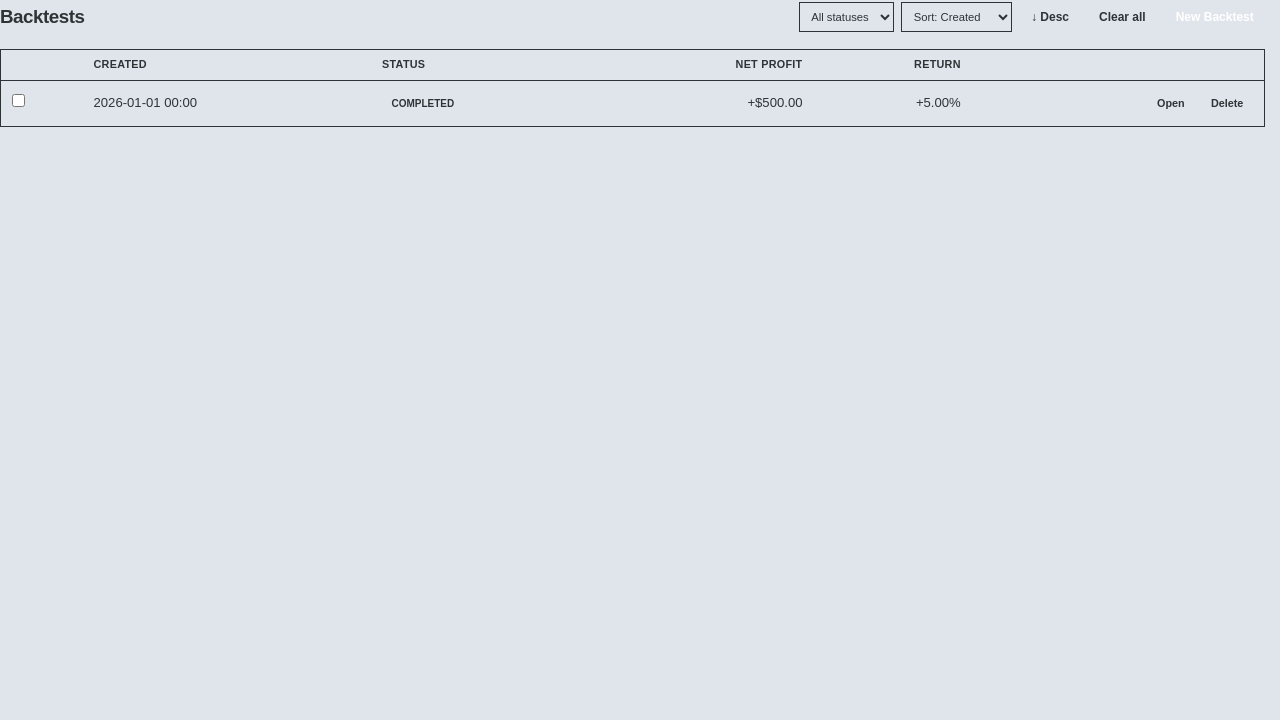
it: BacktestListPage › deletes a terminal run
Check: the table with test id "runs-table" is shown, box [1,50,1264,126]
Click the button with aria-label "Delete run-1": click(1227, 104) [1202,89,1253,119]
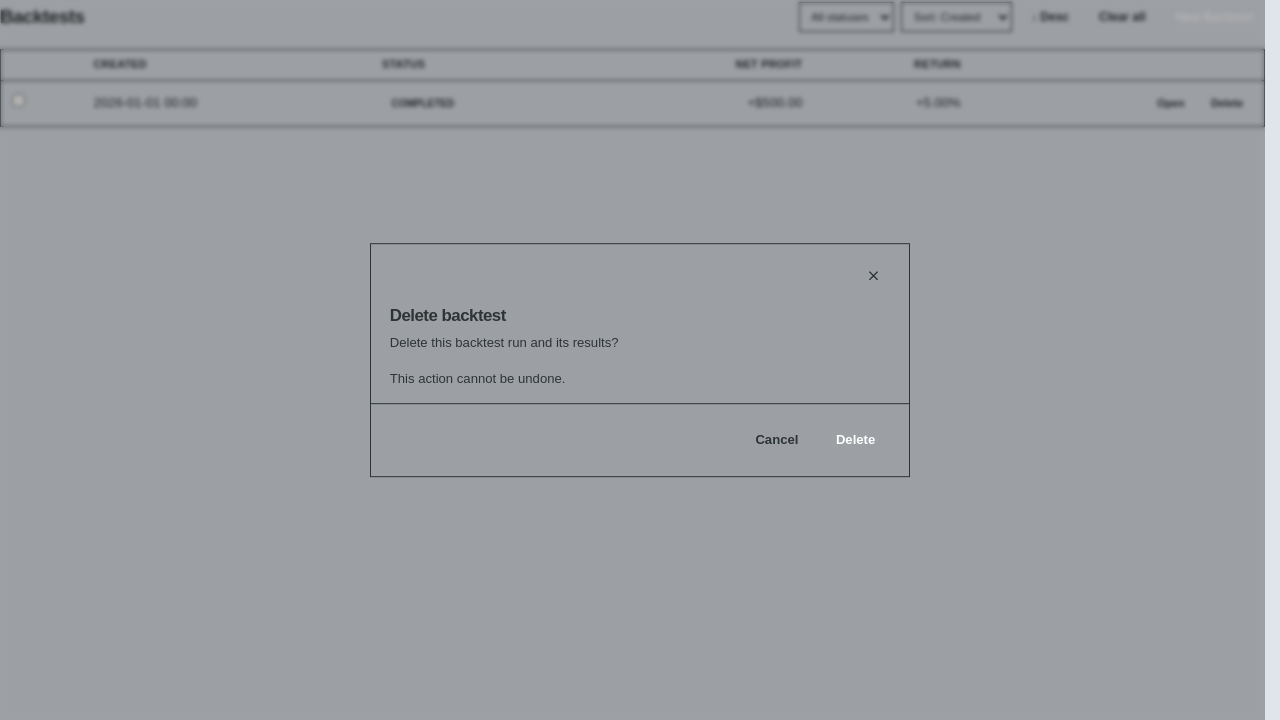
Click the button "Delete": click(856, 440) [821,420,890,461]
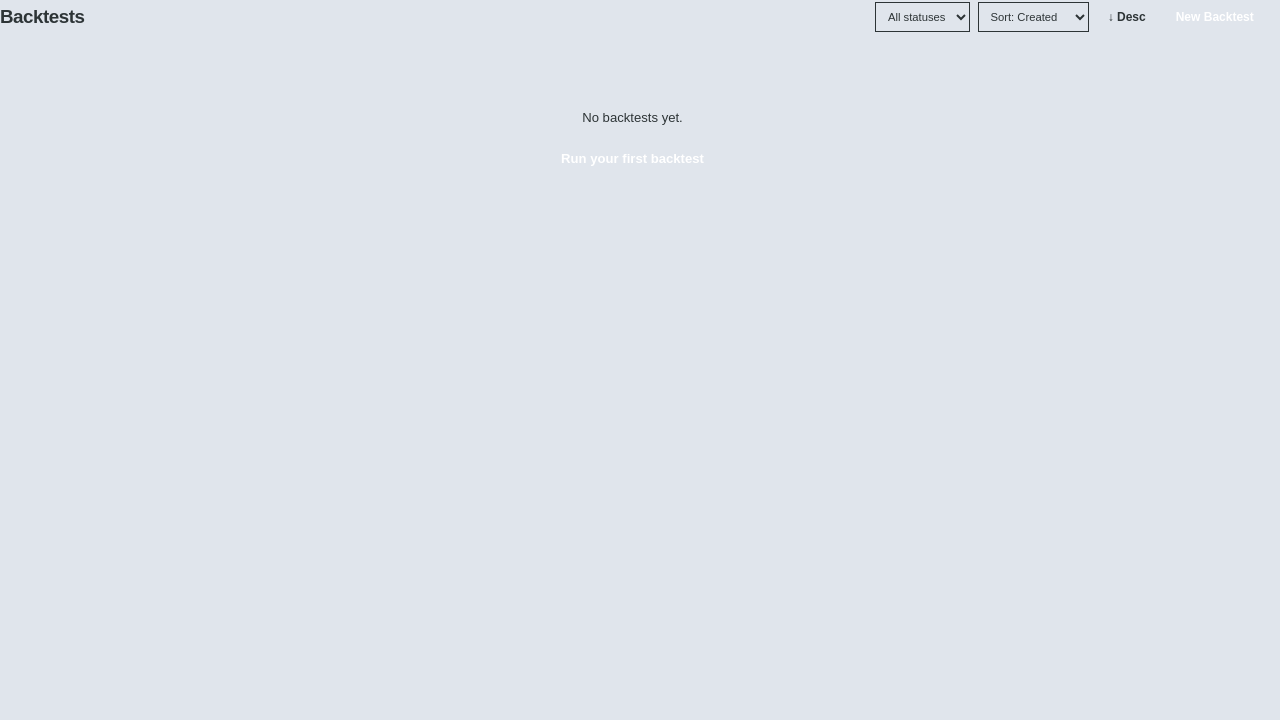
Check: the table with test id "runs-table" is gone
